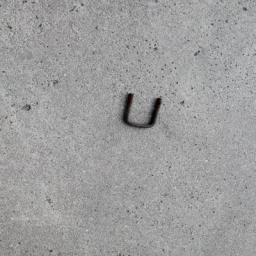FOD: (118, 88, 165, 133)
